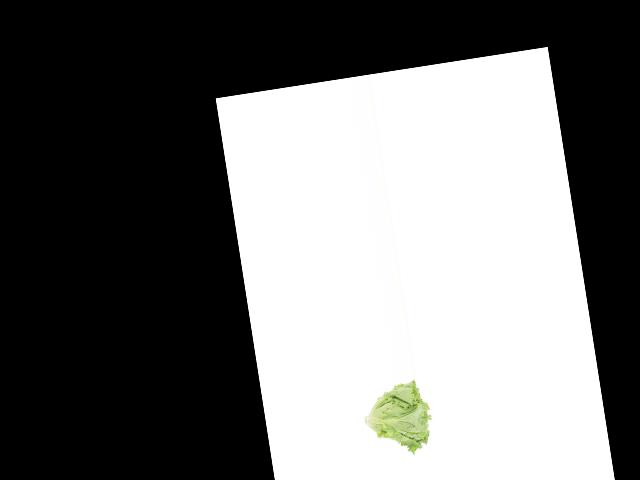lettuce: (357, 376, 439, 458)
